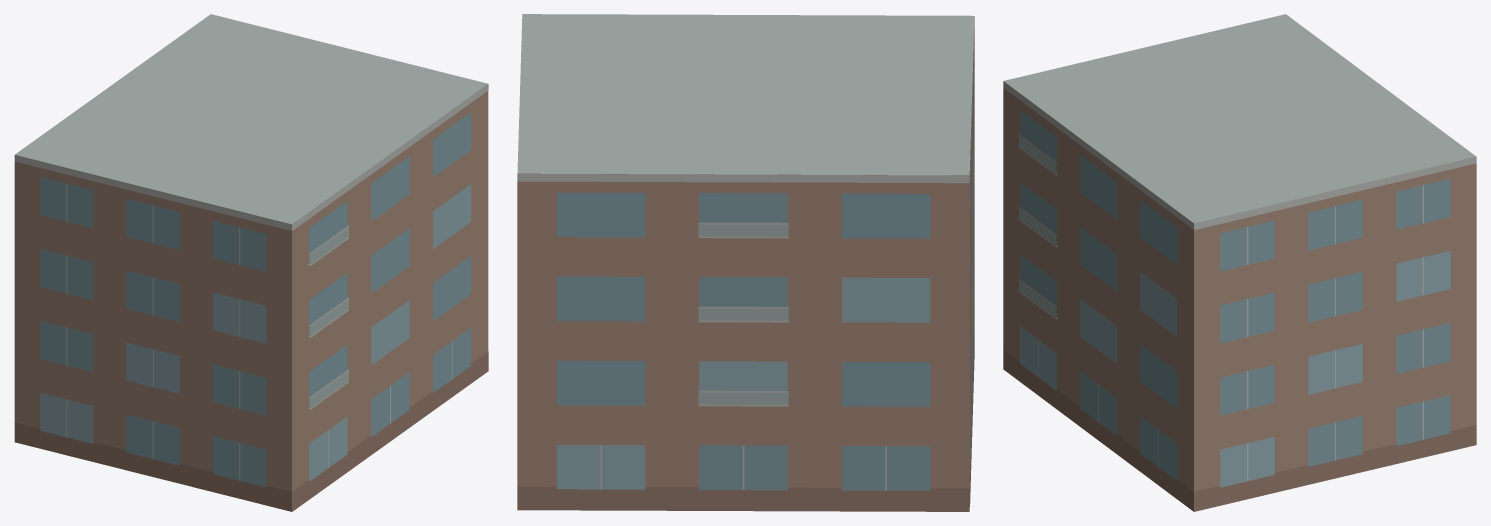
File: survey-upis-32744825.glb
3 views of the same model, side by side, from view 1: azimuth 30°, elevation 25°; view 2: azimuth 150°, elevation 25°; view 3: azimuth 270°, elevation 25° (orthographic). The views are drawn at different scales.
Parts seen in each view (by area): view 1: survey-upis-32744825.tmp; view 2: survey-upis-32744825.tmp; view 3: survey-upis-32744825.tmp.
Boxes of the visible parts, bbox=[...] form: survey-upis-32744825.tmp: bbox=[14, 14, 488, 511]; survey-upis-32744825.tmp: bbox=[517, 14, 974, 511]; survey-upis-32744825.tmp: bbox=[1003, 14, 1476, 511].
Size of the model in its own units: 16.37 by 10.5 by 15.63.
